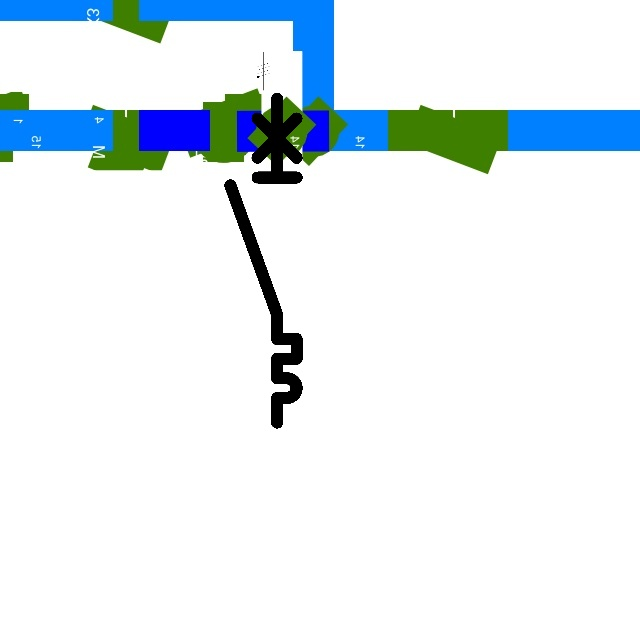interruptor_termomagnetico: (222, 90, 305, 430)
